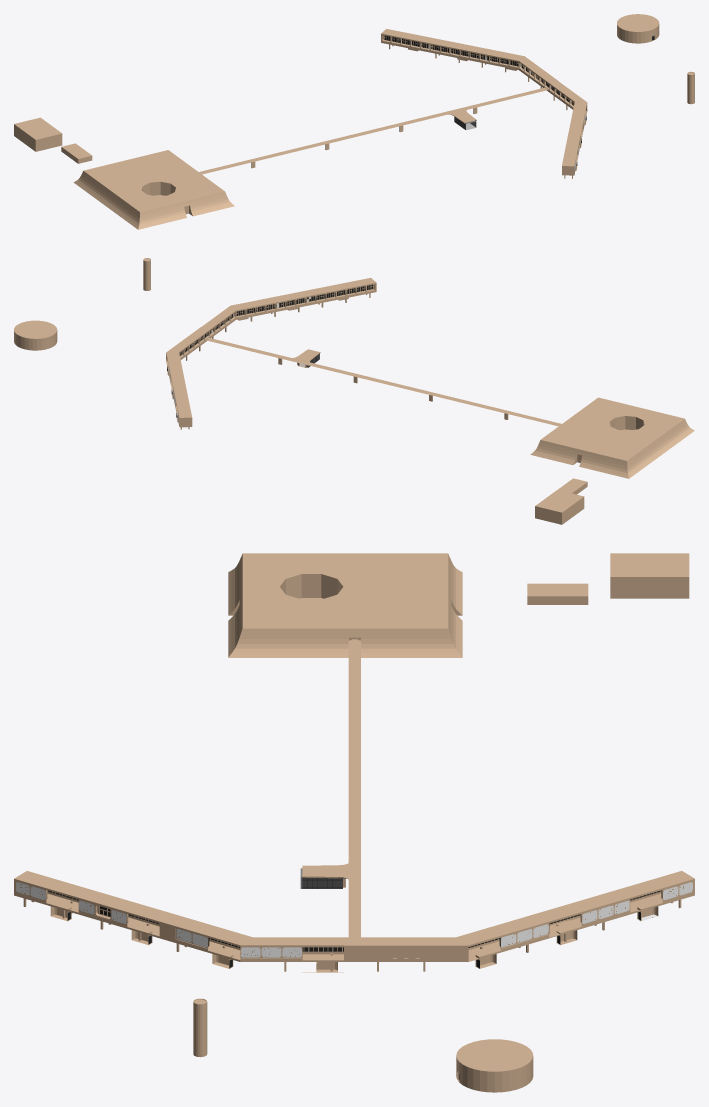
Rendered from village to bib.gltf.
The picture shows the model from 3 angles, top to bottom: view 1: azimuth 30°, elevation 25°; view 2: azimuth 150°, elevation 25°; view 3: azimuth 270°, elevation 25°; orthographic projection. The views are drawn at different scales.
Visible parts, largest first — view 1: biblio + fac, village; view 2: biblio + fac, village; view 3: biblio + fac, village.
Part boxes in pixels (<box>): biblio + fac: <box>14,14,694,178</box>; village: <box>73,150,234,229</box>; biblio + fac: <box>14,258,587,524</box>; village: <box>530,397,694,478</box>; biblio + fac: <box>14,553,694,1092</box>; village: <box>228,553,462,657</box>.
Size of the model in its own units: 800 by 37.71 by 440.
1 material, 1 textured.
